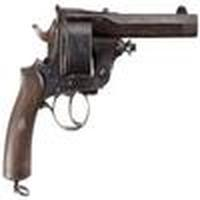gun: (9, 11, 197, 190)
